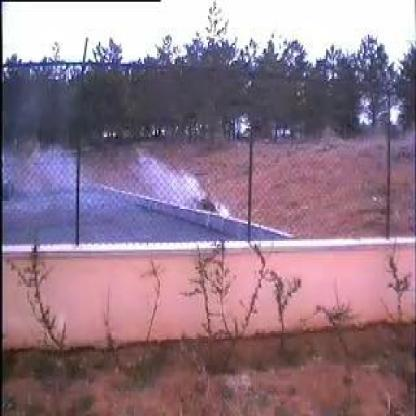-: (29, 125, 214, 237)
